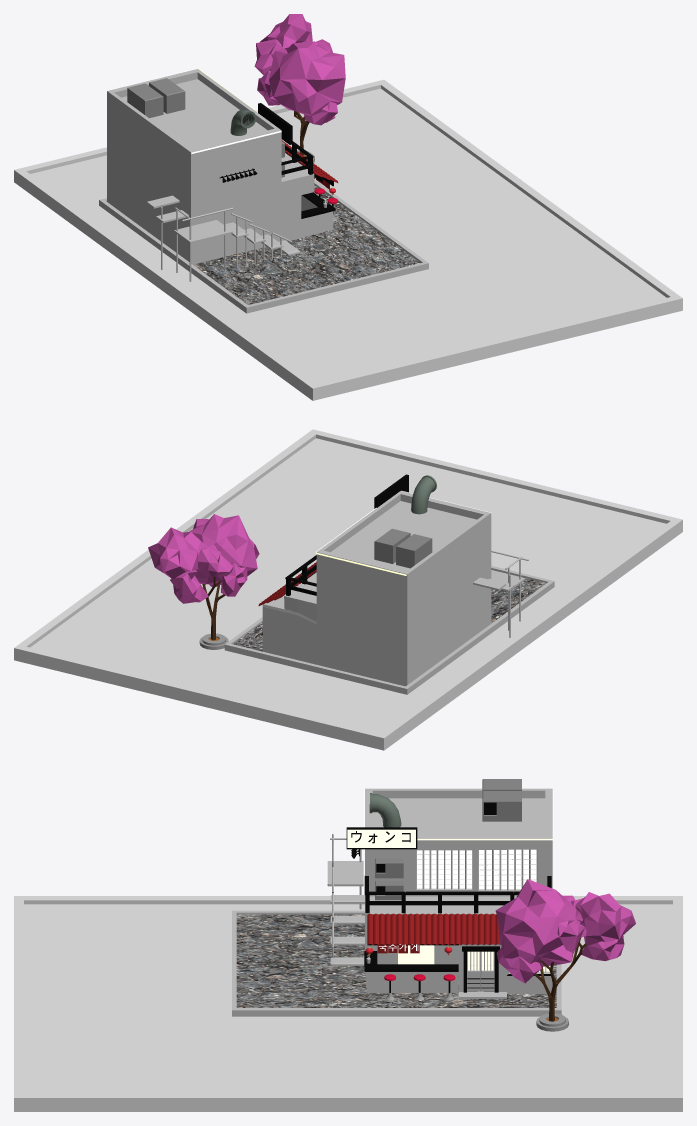
The model's file is lobby 111.fbx.
The picture shows the model from 3 angles, top to bottom: view 1: azimuth 30°, elevation 25°; view 2: azimuth 150°, elevation 25°; view 3: azimuth 270°, elevation 25°; orthographic projection. The views are drawn at different scales.
Parts seen in each view (by area): view 1: Plane.006, Cube, Plane.008, Crown, Plane, Cube.034, Cube.032, Cube.029, Cube.028; view 2: Plane.006, Cube, Crown, Plane, Plane.008, Cube.034, Cube.032, Circle.008; view 3: Plane.006, Cube, Plane.008, Crown, Plane, Plane.002, Cube.008, Cube.002, Cube.028, Cube.038, Cube.007, Cube.032 (+9 smaller).
Boxes of the visible parts, bbox=[...] form: Plane.006: bbox=[14, 79, 682, 400]; Cube: bbox=[107, 69, 314, 264]; Plane.008: bbox=[193, 185, 420, 304]; Crown: bbox=[254, 14, 345, 125]; Plane: bbox=[99, 179, 428, 313]; Cube.034: bbox=[127, 83, 163, 118]; Cube.032: bbox=[149, 78, 185, 113]; Cube.029: bbox=[174, 220, 232, 243]; Cube.028: bbox=[225, 222, 300, 255]; Plane.006: bbox=[14, 429, 682, 750]; Cube: bbox=[262, 491, 491, 686]; Crown: bbox=[148, 514, 259, 603]; Plane: bbox=[224, 566, 554, 694]; Plane.008: bbox=[233, 571, 546, 651]; Cube.034: bbox=[396, 534, 432, 568]; Cube.032: bbox=[374, 528, 410, 563]; Circle.008: bbox=[411, 475, 436, 514]; Plane.006: bbox=[14, 896, 682, 1111]; Cube: bbox=[365, 788, 552, 998]; Plane.008: bbox=[236, 914, 556, 1007]; Crown: bbox=[495, 879, 635, 983]; Plane: bbox=[232, 910, 561, 1016]; Plane.002: bbox=[367, 913, 499, 945]; Cube.008: bbox=[417, 849, 536, 889]; Cube.002: bbox=[367, 972, 458, 992]; Cube.028: bbox=[330, 895, 364, 965]; Cube.038: bbox=[347, 829, 415, 847]; Cube.007: bbox=[478, 849, 537, 890]; Cube.032: bbox=[482, 791, 521, 821].
Size of the model in its own units: 815 by 334 by 1139.
